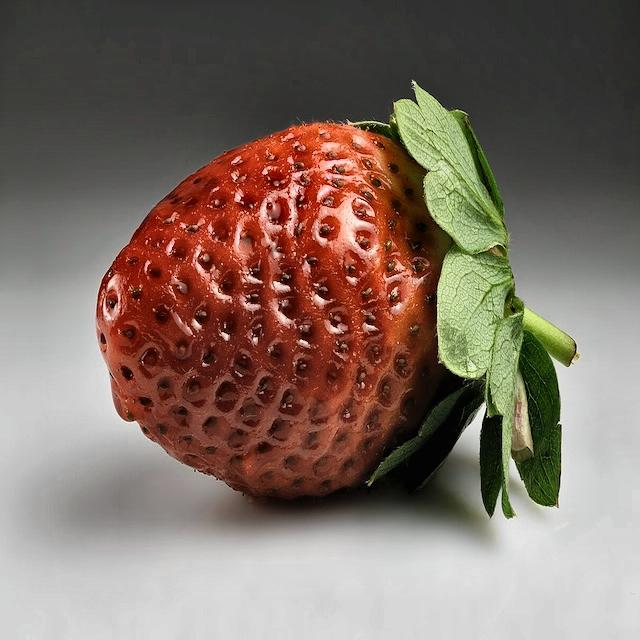strawberry: (96, 84, 576, 516)
